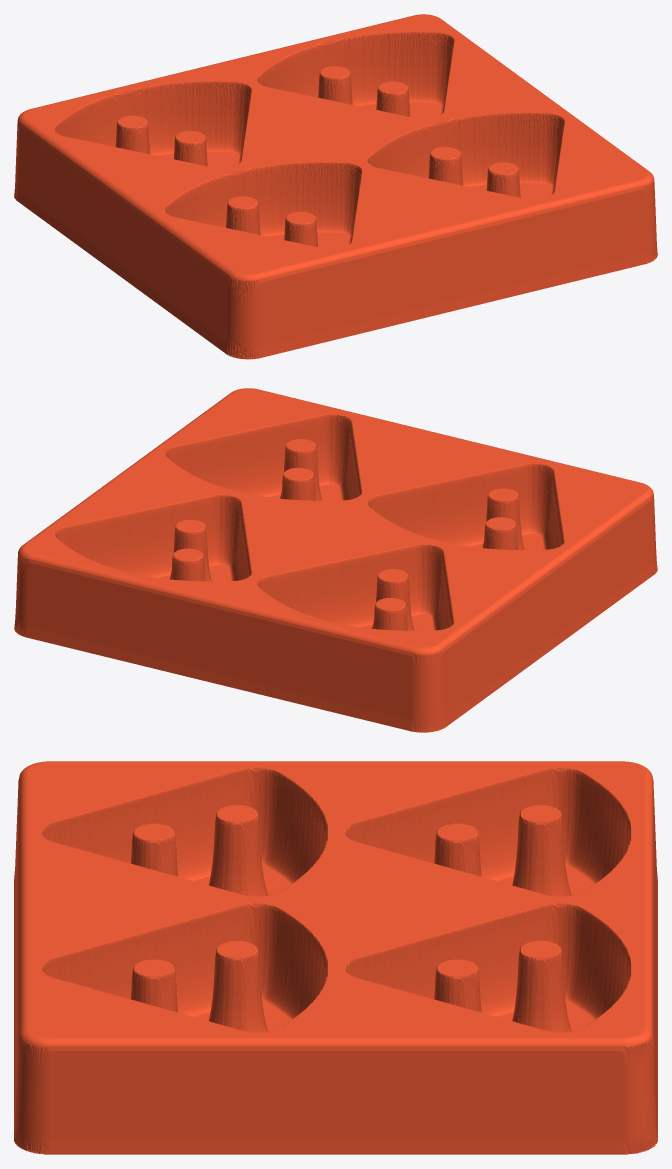
File: mold.glb
The picture shows the model from 3 angles, top to bottom: view 1: azimuth 30°, elevation 25°; view 2: azimuth 150°, elevation 25°; view 3: azimuth 270°, elevation 25°; orthographic projection. The views are drawn at different scales.
Visible parts, largest first — view 1: geometry_0; view 2: geometry_0; view 3: geometry_0.
Boxes of the visible parts, left/top/right/bottom form: geometry_0: left=14, top=14, right=657, bottom=359; geometry_0: left=14, top=388, right=657, bottom=732; geometry_0: left=14, top=761, right=657, bottom=1154.
Size of the model in its own units: 0.1721 by 0.031 by 0.163.
